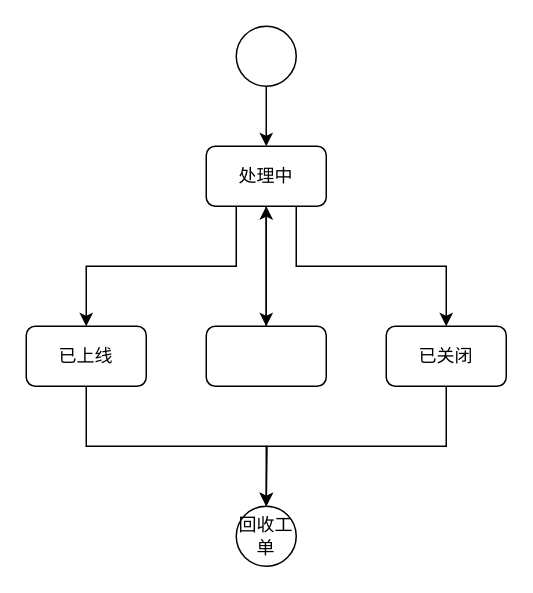
Some shapes in this 533 by 593 pixel diagram are drawn without their labels. The centre of each missing label's shape, as x and y in pixels:
创建工单: the point at 265,55
已驳回: the point at 265,355
